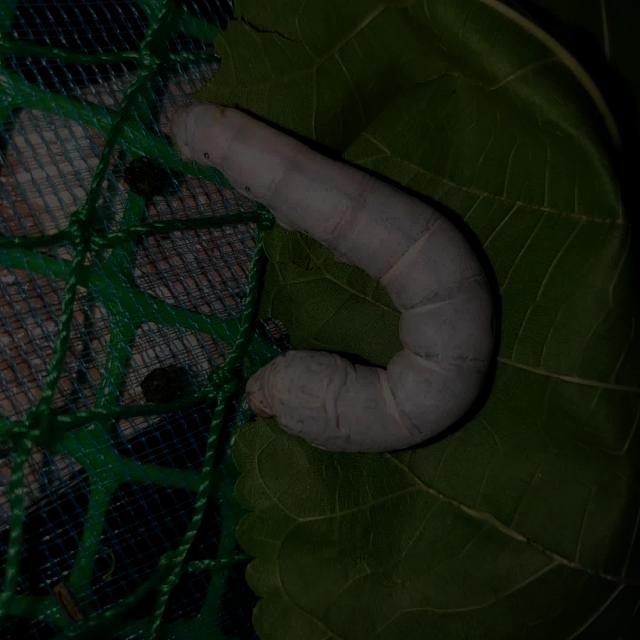Healthy: (151, 82, 526, 478)
